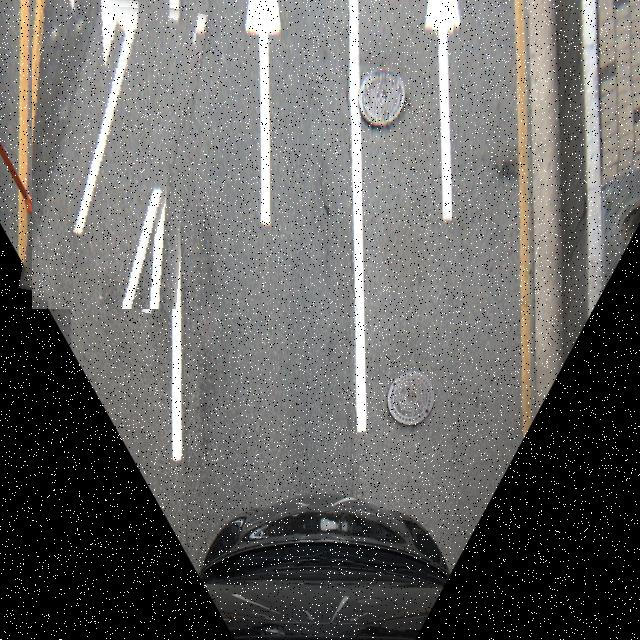left: (32, 0, 198, 309)
